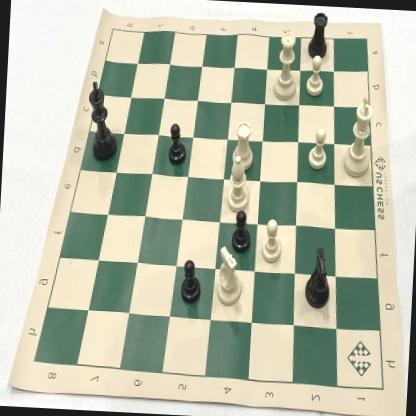black-king: (82, 78, 122, 165)
black-knight: (301, 242, 340, 312)
black-pawn: (177, 256, 204, 306), (228, 204, 254, 255), (166, 120, 190, 169)
black-rook: (304, 6, 331, 62)
white-bishop: (224, 152, 253, 216)
white-king: (340, 90, 378, 182)
white-knight: (210, 243, 245, 307)
white-pawn: (258, 213, 284, 269), (303, 122, 332, 172), (302, 54, 326, 100)
white-queen: (268, 26, 300, 104)
white-rook: (227, 114, 258, 174)
